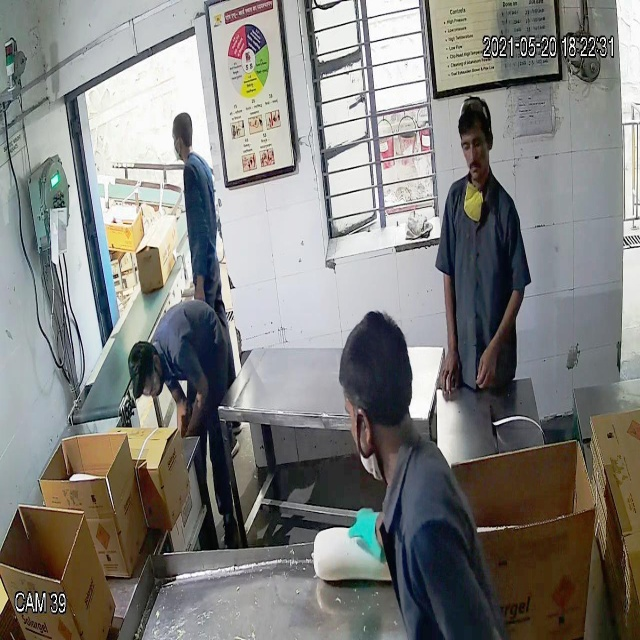Sin_gafas: (457, 131, 489, 156)
